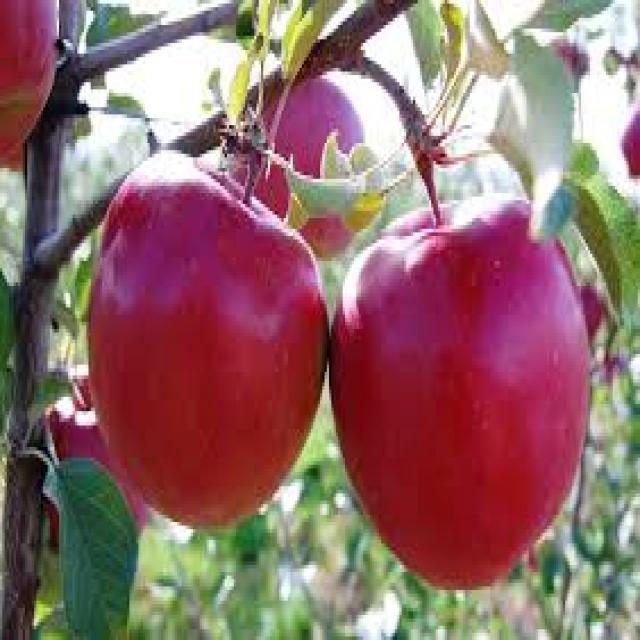apple: (331, 193, 590, 588), (86, 148, 329, 534)
